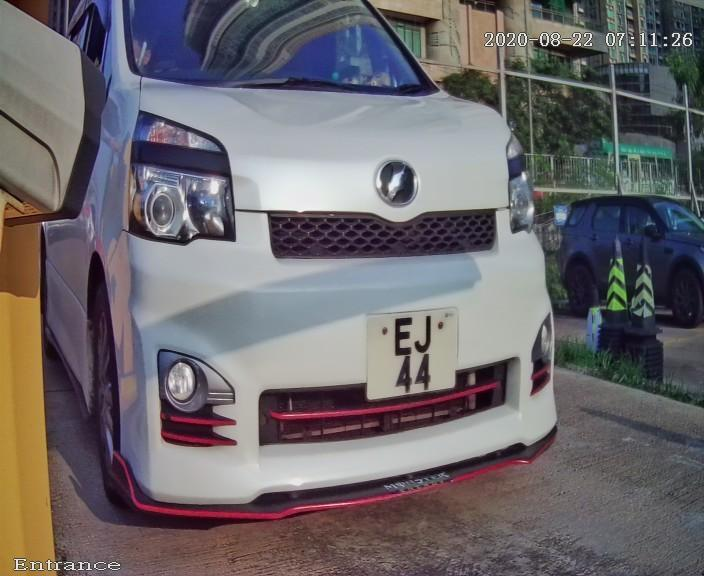Car: (32, 1, 607, 541)
License Plate: (341, 284, 475, 415)
